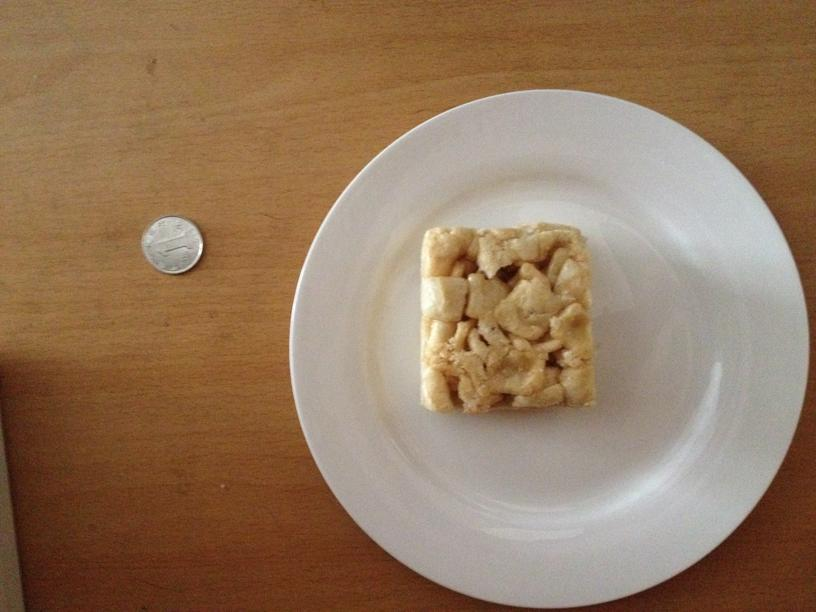coin: (138, 214, 204, 274)
sachima: (409, 222, 598, 416)
